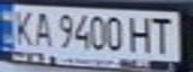0: (87, 12, 109, 52), (106, 14, 127, 53)
4: (72, 11, 90, 51)
9: (54, 10, 75, 51)
A: (30, 8, 57, 47)
H: (124, 14, 157, 54)
K: (6, 7, 39, 47)
T: (145, 15, 178, 55)
